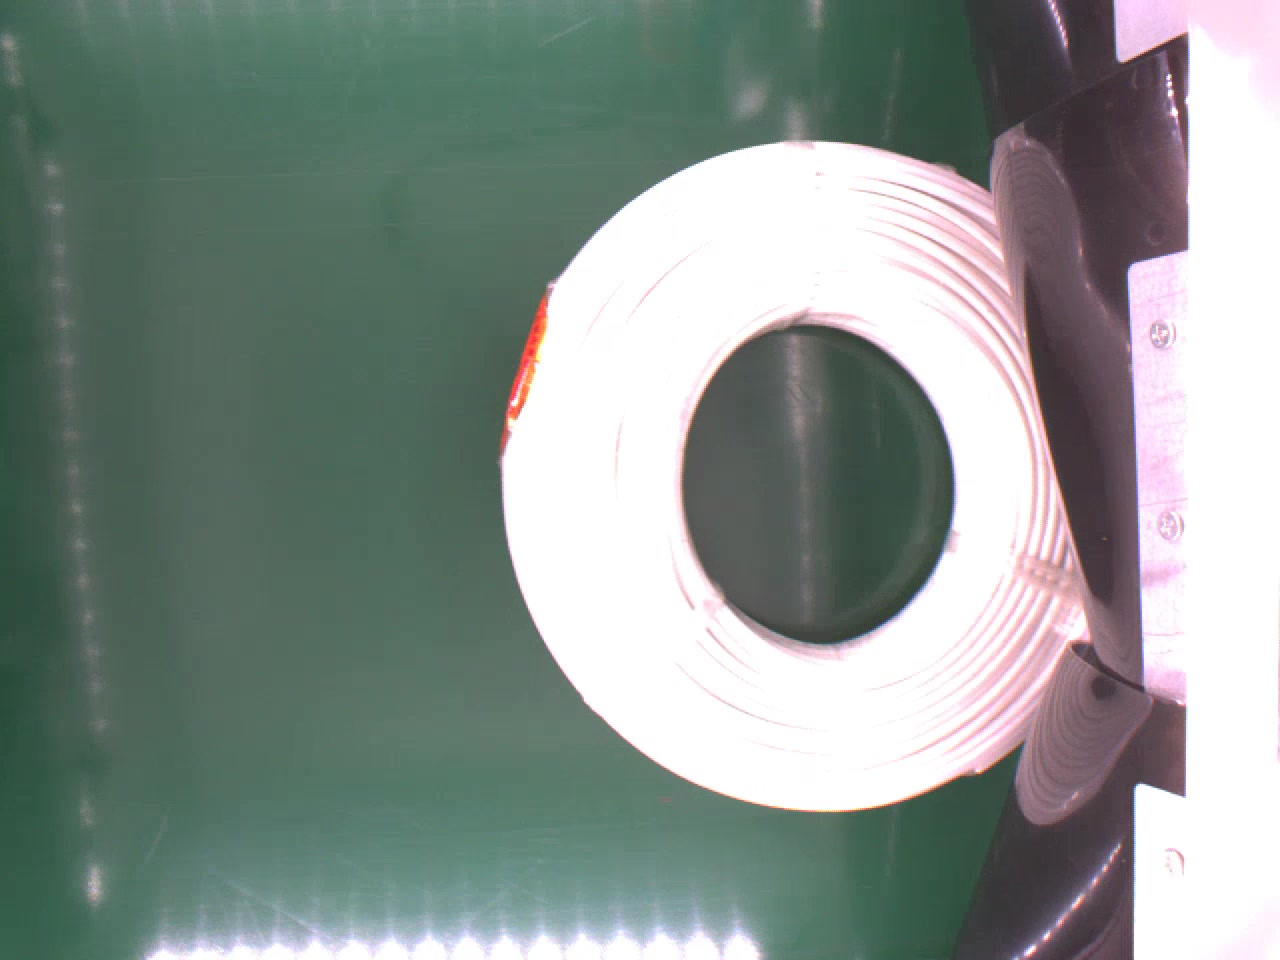white: (497, 135, 1094, 823)
